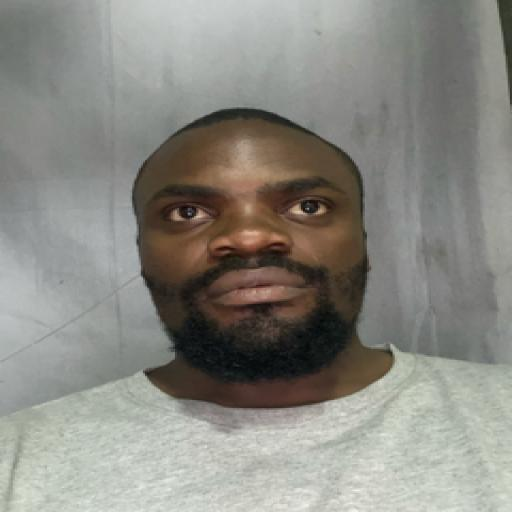JEANLUC: (126, 97, 386, 410)
